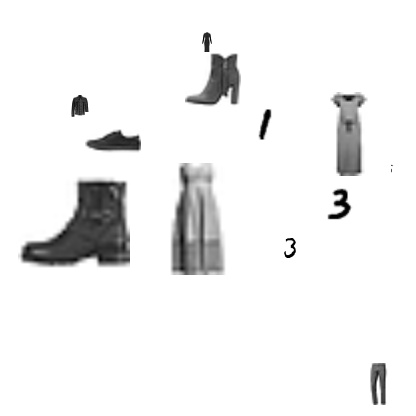1: (244, 102, 286, 144)
3: (319, 183, 361, 225), (277, 234, 305, 262)
5: (382, 162, 396, 176)
Ankle_boot: (18, 166, 130, 278), (185, 52, 241, 108)
Coat: (69, 95, 91, 117)
Dress: (140, 163, 252, 275), (307, 92, 391, 176), (196, 32, 218, 54)
Sneaker: (85, 112, 141, 168)
Trouser: (357, 363, 399, 405)
